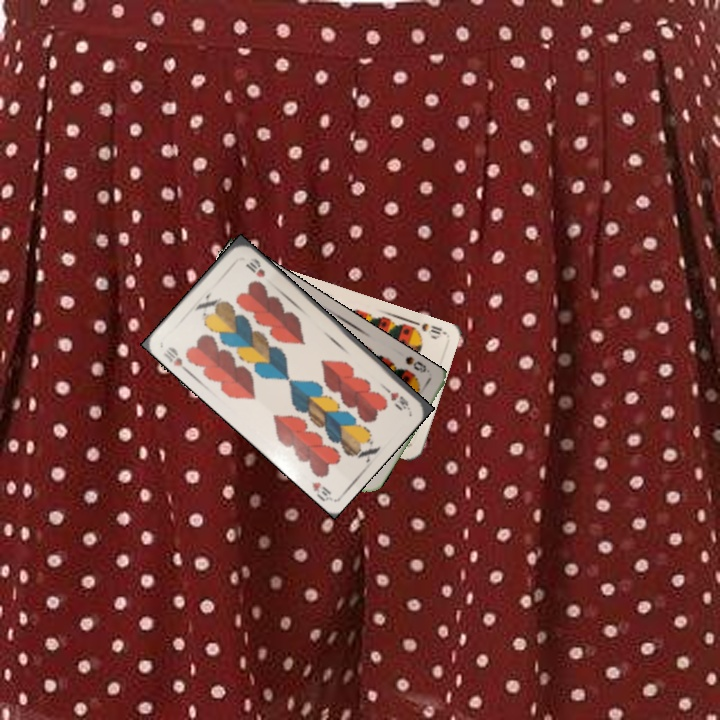H10: (378, 381, 412, 412), (159, 343, 191, 375)
S10: (406, 316, 447, 341)
S8: (401, 352, 432, 376)
